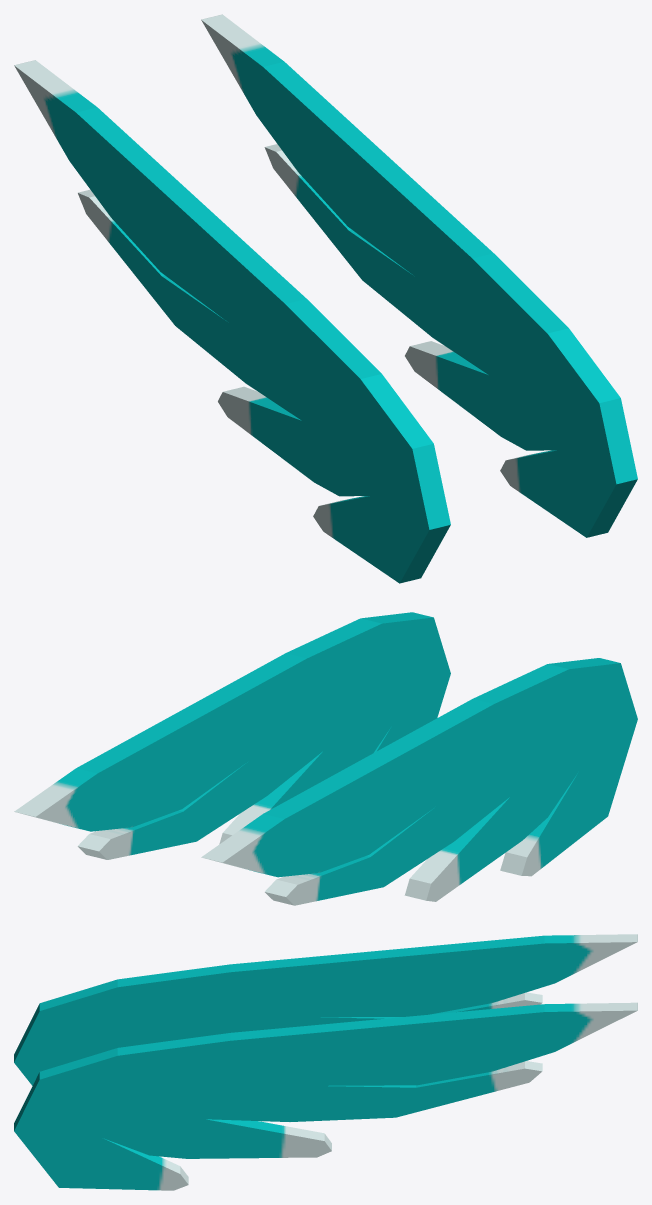
Rendered from BirdWings.fbx.
3 views of the same model, one above another, from view 1: azimuth 30°, elevation 25°; view 2: azimuth 150°, elevation 25°; view 3: azimuth 270°, elevation 25° (orthographic). The views are drawn at different scales.
Parts seen in each view (by area): view 1: wings; view 2: wings; view 3: wings.
Boxes of the visible parts, <box> form: wings: <box>14,14,637,583</box>; wings: <box>14,612,637,905</box>; wings: <box>14,934,637,1190</box>.
Bounding box in the file's own units: 2 × 2.2 × 6.89.
1 material, 1 textured.
